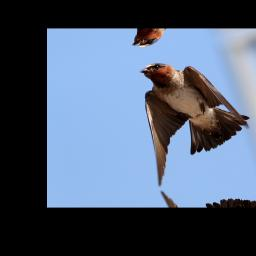Swallow: (124, 45, 256, 188)
